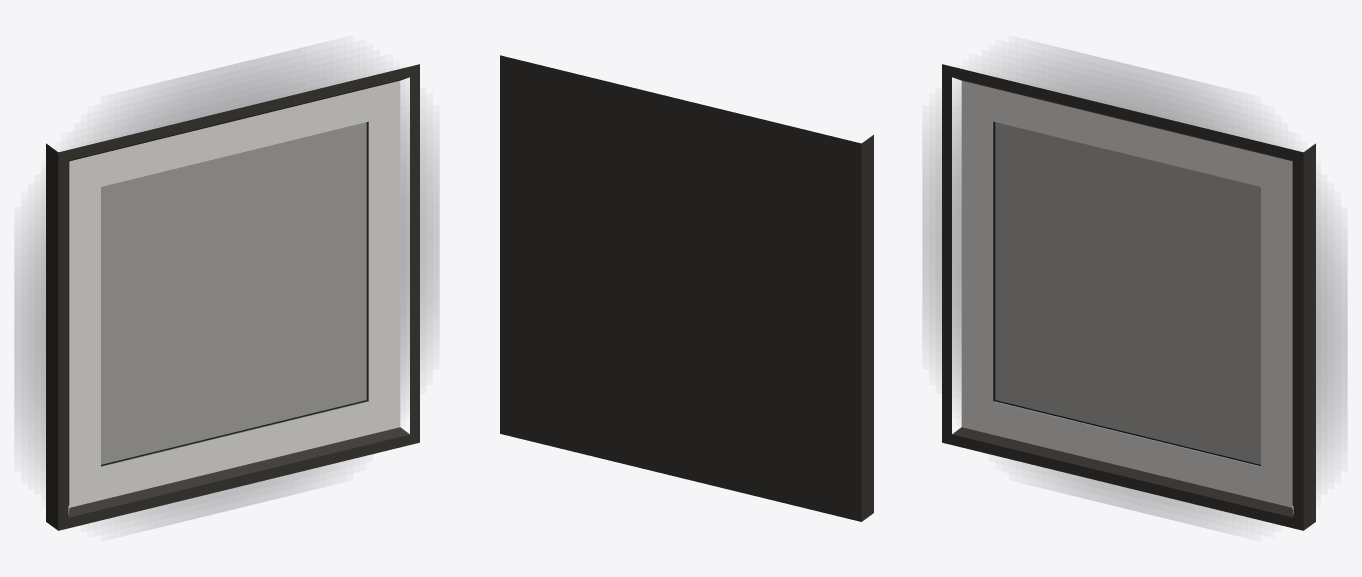
The model's file is frame-black-oak-v3.glb.
3 views of the same model, side by side, from view 1: azimuth 30°, elevation 25°; view 2: azimuth 150°, elevation 25°; view 3: azimuth 330°, elevation 25° (orthographic).
Parts seen in each view (by area): view 1: FramedPrint; view 2: FramedPrint; view 3: FramedPrint.
Part boxes in pixels (x1,y1,x2,y2): FramedPrint: (15,50,438,530); FramedPrint: (500,55,873,521); FramedPrint: (923,50,1346,530).
Bounding box in the file's own units: 0.668 × 0.668 × 0.034.
Materials: 6 (2 with a texture image).
